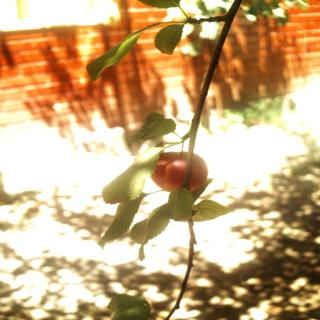tomato: (148, 148, 207, 191)
